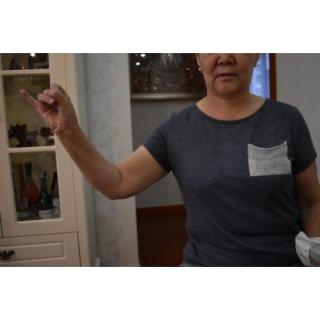MEEM: (18, 81, 78, 136)
